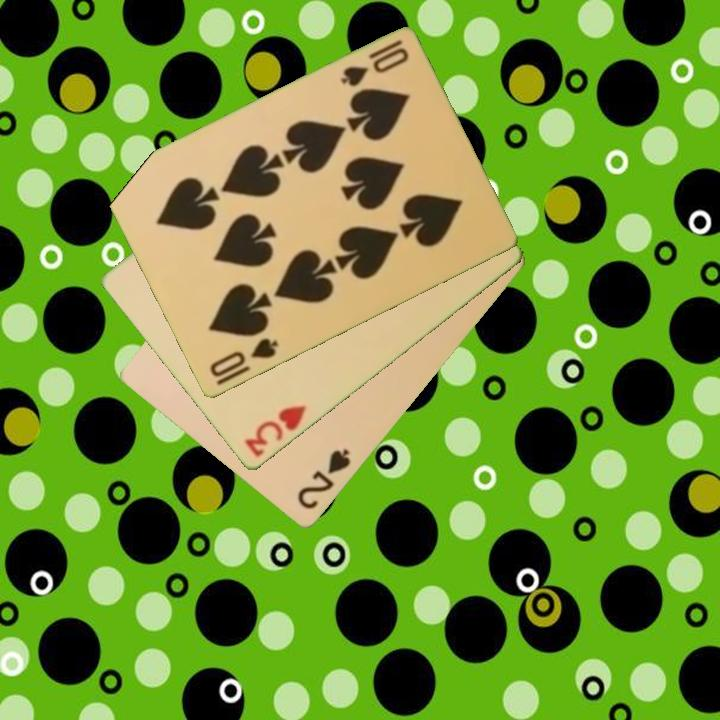10s: (336, 36, 412, 91), (206, 334, 281, 381)
2s: (293, 445, 354, 513)
3h: (240, 402, 309, 461)
